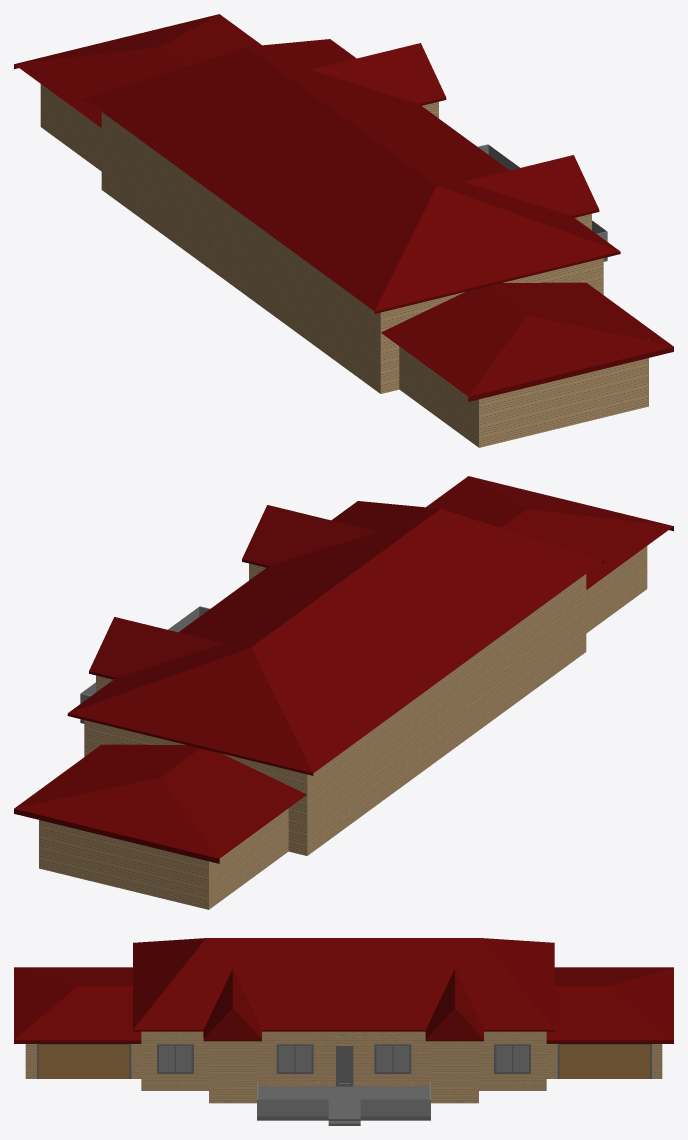
Rendered from houses3.fbx.
3 views of the same model, one above another, from view 1: azimuth 30°, elevation 25°; view 2: azimuth 150°, elevation 25°; view 3: azimuth 270°, elevation 25° (orthographic). The views are drawn at different scales.
Parts seen in each view (by area): view 1: Group1; view 2: Group1; view 3: Group1.
Boxes of the visible parts, x1,y1,x2,y2 form: Group1: (14, 14, 673, 447); Group1: (14, 476, 673, 909); Group1: (14, 938, 673, 1125).
Bounding box in the file's own units: 1360 × 590 × 3215.
